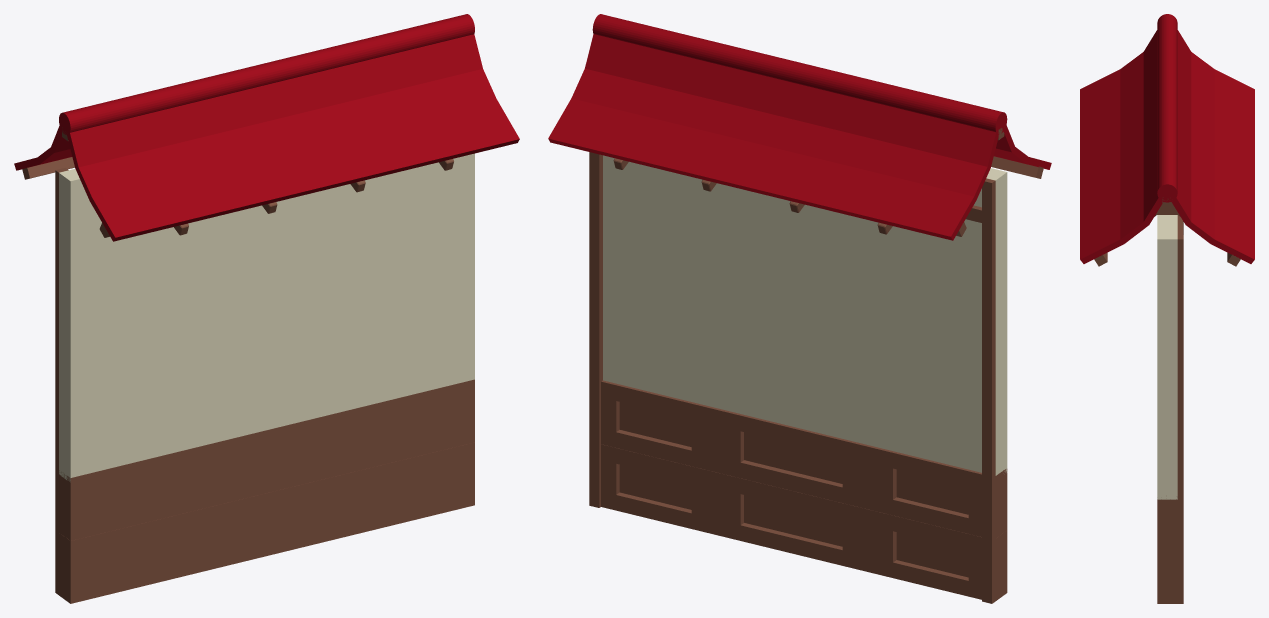
The model's file is single-wall-simple.glb.
The picture shows the model from 3 angles, left to right: view 1: azimuth 30°, elevation 25°; view 2: azimuth 150°, elevation 25°; view 3: azimuth 270°, elevation 25°; orthographic projection. The views are drawn at different scales.
Visible parts, largest first — view 1: panel, Cube, bottom-wood-panel, top-wood-panel, Cylinder, right-wood-side, top-frame-1.001; view 2: panel, Cube, top-wood-panel, bottom-wood-panel, Cylinder, right-wood-side, left-wood-side, top-frame-1.001; view 3: Cube, panel, Cylinder, left-wood-side, bottom-wood-panel, top-wood-panel, top-frame-1.001.
Boxes of the visible parts, x1=… form: panel: x1=59, y1=153, x2=474, y2=482; Cube: x1=14, y1=34, x2=519, y2=241; bottom-wood-panel: x1=59, y1=442, x2=474, y2=603; top-wood-panel: x1=59, y1=379, x2=474, y2=540; Cylinder: x1=59, y1=14, x2=474, y2=134; right-wood-side: x1=55, y1=167, x2=68, y2=594; top-frame-1.001: x1=22, y1=157, x2=109, y2=237; panel: x1=603, y1=155, x2=1007, y2=475; Cube: x1=548, y1=34, x2=1051, y2=240; top-wood-panel: x1=601, y1=380, x2=1007, y2=539; bottom-wood-panel: x1=601, y1=444, x2=1007, y2=602; Cylinder: x1=592, y1=14, x2=1007, y2=134; right-wood-side: x1=982, y1=178, x2=995, y2=603; left-wood-side: x1=589, y1=152, x2=602, y2=507; top-frame-1.001: x1=956, y1=156, x2=1043, y2=236; Cube: x1=1080, y1=30, x2=1254, y2=263; panel: x1=1157, y1=215, x2=1177, y2=499; Cylinder: x1=1157, y1=14, x2=1177, y2=202; left-wood-side: x1=1177, y1=235, x2=1183, y2=603; bottom-wood-panel: x1=1157, y1=549, x2=1180, y2=603; top-wood-panel: x1=1157, y1=498, x2=1180, y2=549; top-frame-1.001: x1=1094, y1=252, x2=1240, y2=266.
Size of the model in its own units: 2 by 2.3 by 0.8677.
